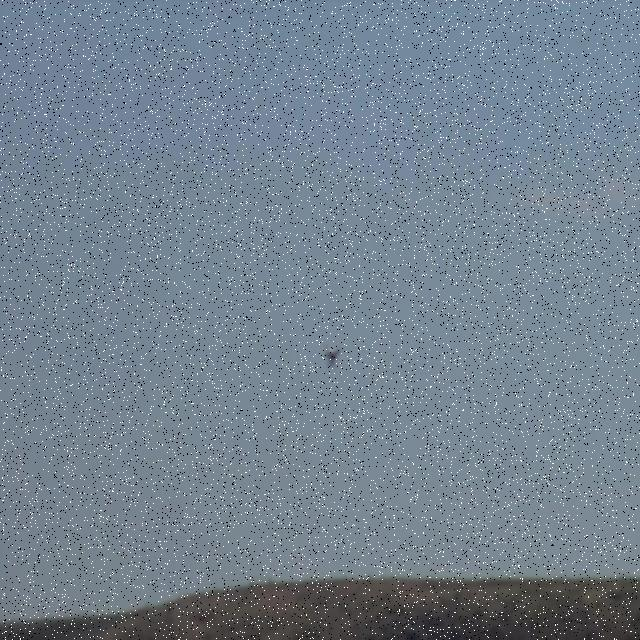UAV: (324, 344, 344, 370)
